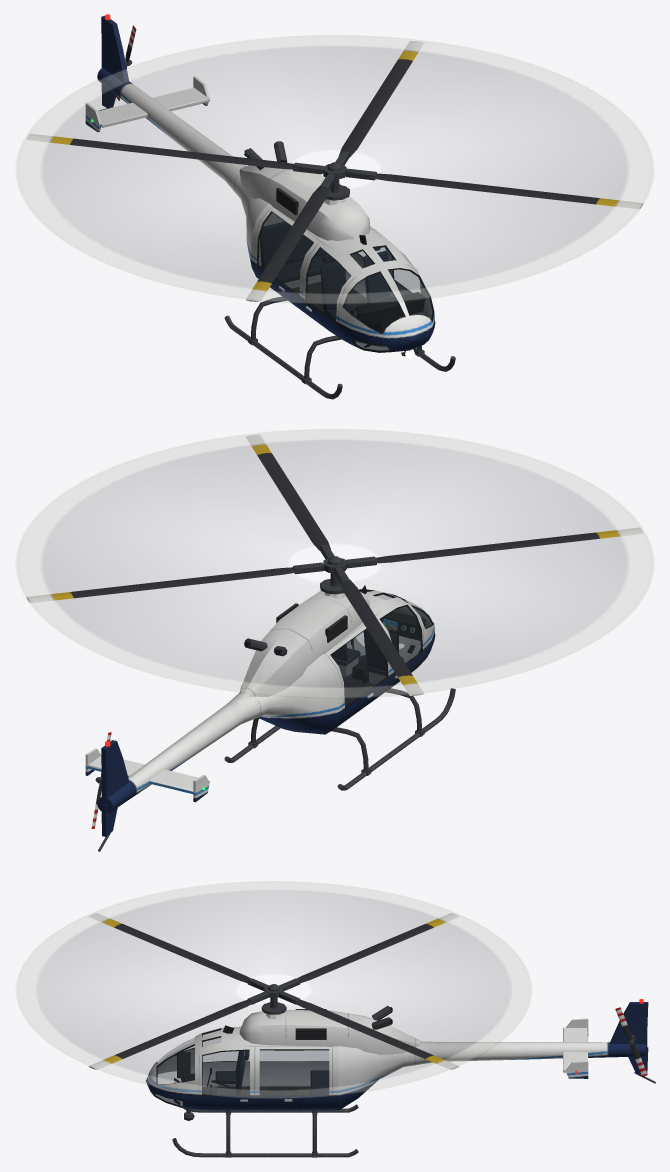
Rendered from helicopter.glb.
3 views of the same model, one above another, from view 1: azimuth 30°, elevation 25°; view 2: azimuth 150°, elevation 25°; view 3: azimuth 270°, elevation 25° (orthographic). The views are drawn at different scales.
Parts seen in each view (by area): view 1: rotor_main_blur, body, rotor_main, body_glass; view 2: rotor_main_blur, body, rotor_main, body_glass; view 3: rotor_main_blur, body, body_glass, rotor_main, rotor_tail.
Part boxes in pixels (x1,y1,x2,y2): rotor_main_blur: (17, 35, 652, 303); body: (85, 14, 455, 399); rotor_main: (26, 41, 643, 301); body_glass: (257, 212, 433, 351); rotor_main_blur: (17, 429, 652, 697); body: (85, 585, 455, 851); rotor_main: (26, 434, 643, 695); body_glass: (331, 590, 432, 707); rotor_main_blur: (17, 882, 530, 1098); body: (146, 999, 655, 1157); body_glass: (154, 1029, 328, 1107); rotor_main: (88, 913, 459, 1069); rotor_tail: (615, 1007, 647, 1076).
Size of the model in its own units: 10.84 by 3.45 by 13.38.
Materials: 3 (2 with a texture image).
